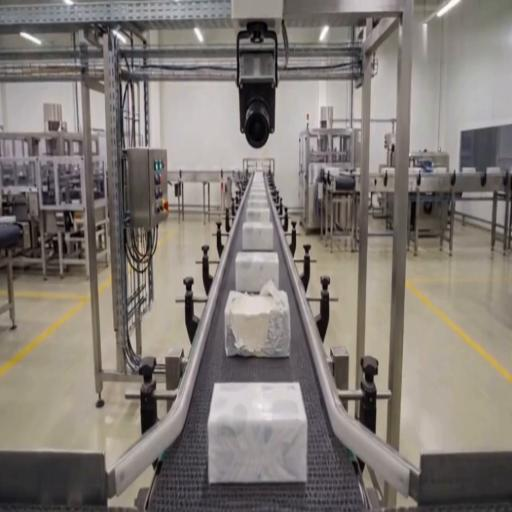defective: (208, 381, 307, 484), (222, 284, 290, 358)
good: (234, 252, 280, 294), (242, 220, 276, 252), (244, 206, 271, 226), (247, 178, 269, 197)
